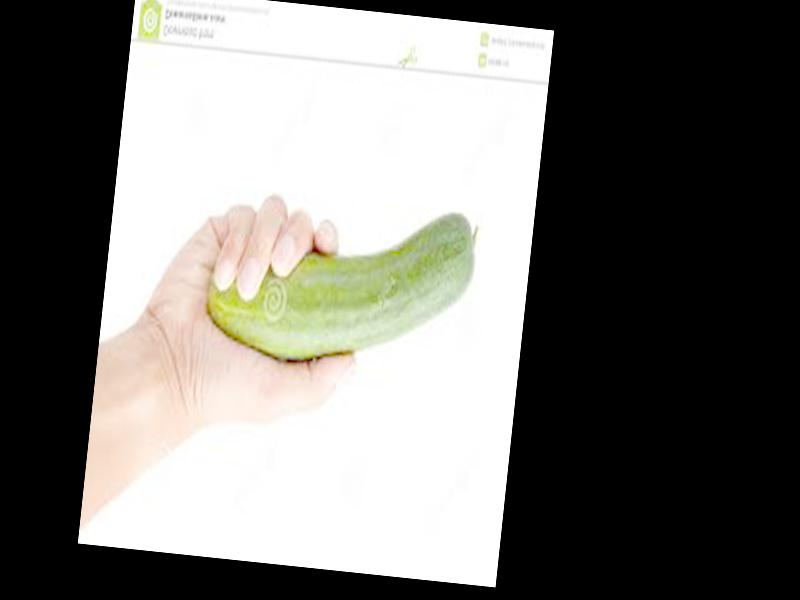Cucumber: (203, 187, 481, 373)
